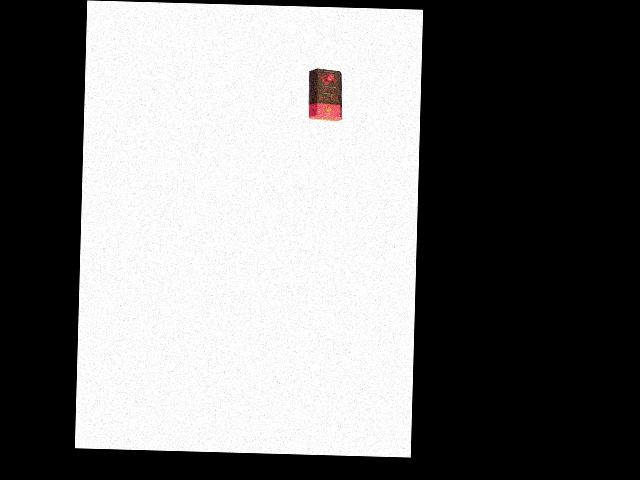chocolate: (306, 63, 344, 123)
